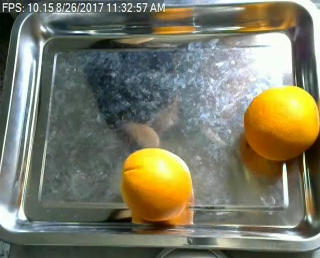Orange: (242, 85, 319, 160), (121, 147, 192, 220)
